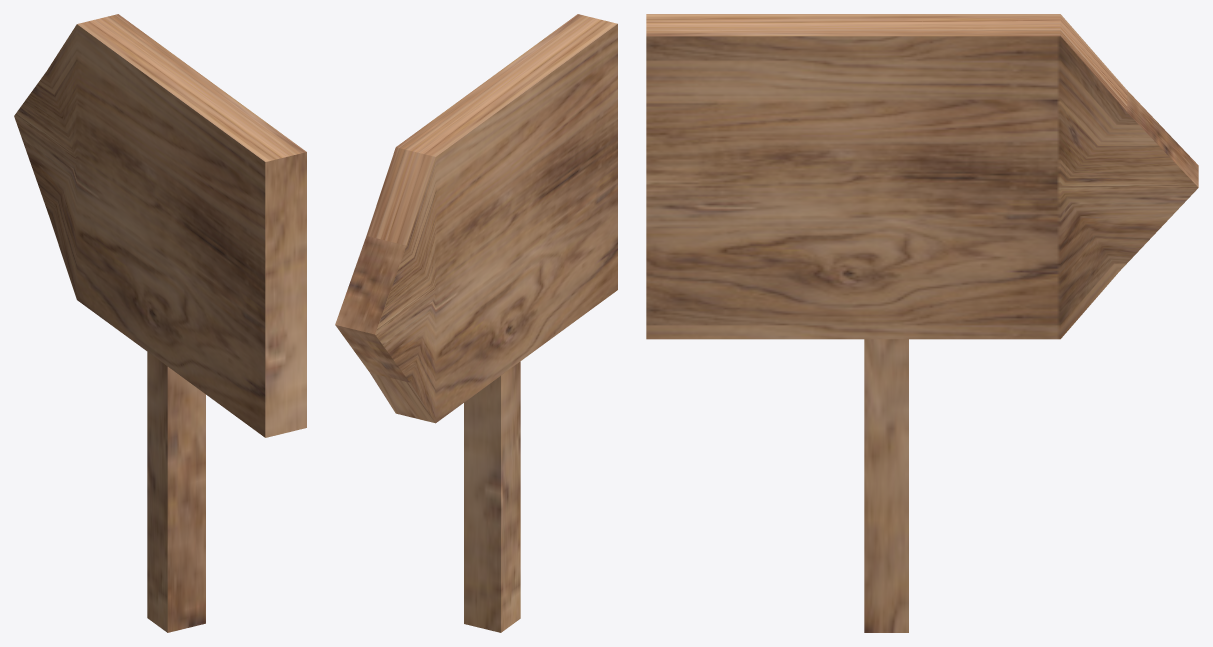
The model's file is Sign2.fbx.
3 renders of one model, left to right at view 1: azimuth 30°, elevation 25°; view 2: azimuth 150°, elevation 25°; view 3: azimuth 270°, elevation 25°, orthographic. The views are drawn at different scales.
Visible parts, largest first — view 1: Cube.001; view 2: Cube.001; view 3: Cube.001.
Part boxes in pixels (<box>): Cube.001: <box>14,14,306,632</box>; Cube.001: <box>335,14,617,632</box>; Cube.001: <box>646,14,1198,632</box>.
Bounding box in the file's own units: 25.66 × 321 × 269.
Materials: 1 (1 with a texture image).
